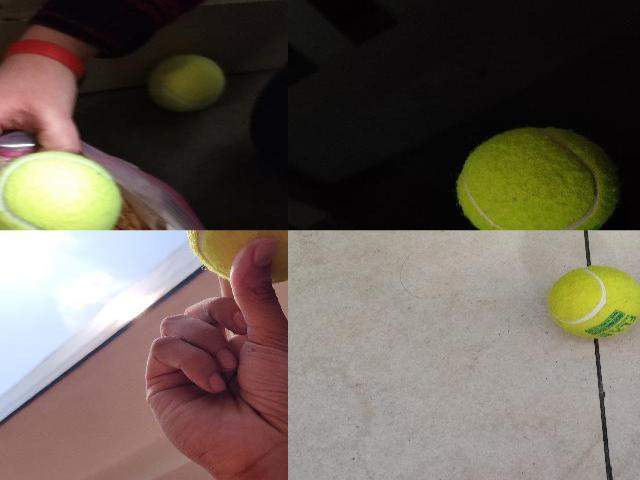tennis-ball: (455, 126, 620, 230), (0, 152, 123, 229), (547, 265, 639, 338), (186, 230, 287, 285), (145, 54, 225, 114)
